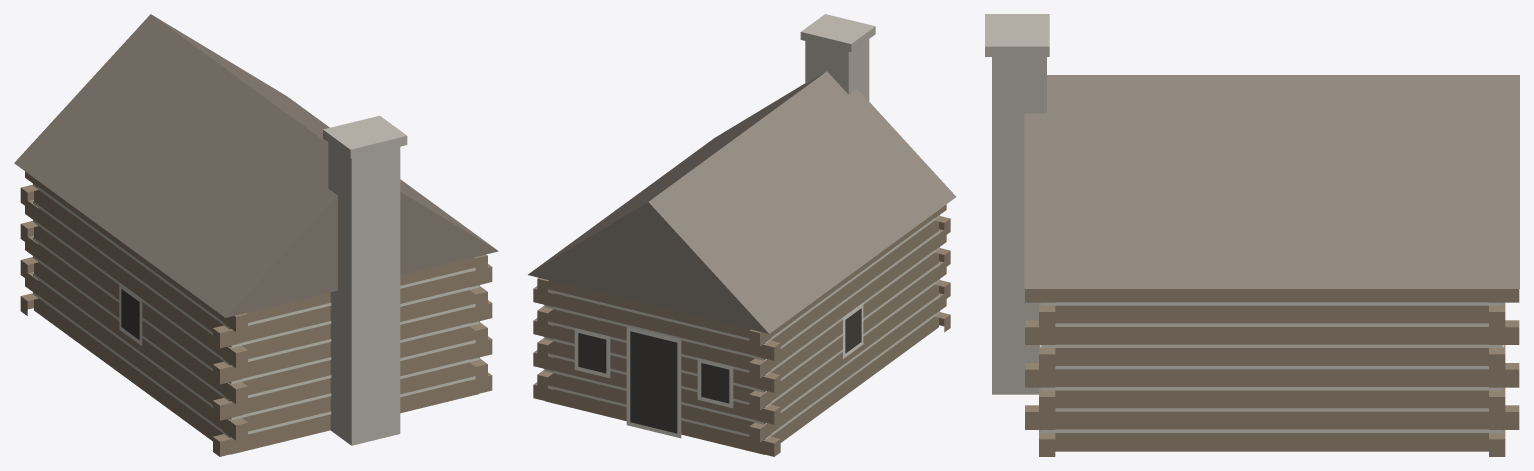
The model's file is recon_1835_west_039__inferred_1835.glb.
3 views of the same model, side by side, from view 1: azimuth 30°, elevation 25°; view 2: azimuth 150°, elevation 25°; view 3: azimuth 270°, elevation 25° (orthographic). The views are drawn at different scales.
Visible parts, largest first — view 1: recon_1835_west_039__inferred_1835; view 2: recon_1835_west_039__inferred_1835; view 3: recon_1835_west_039__inferred_1835.
Part boxes in pixels (x1,y1,x2,y2): recon_1835_west_039__inferred_1835: (14, 14, 498, 456); recon_1835_west_039__inferred_1835: (528, 14, 956, 456); recon_1835_west_039__inferred_1835: (985, 14, 1519, 456).
Size of the model in its own units: 5.38 by 5.69 by 7.78.
